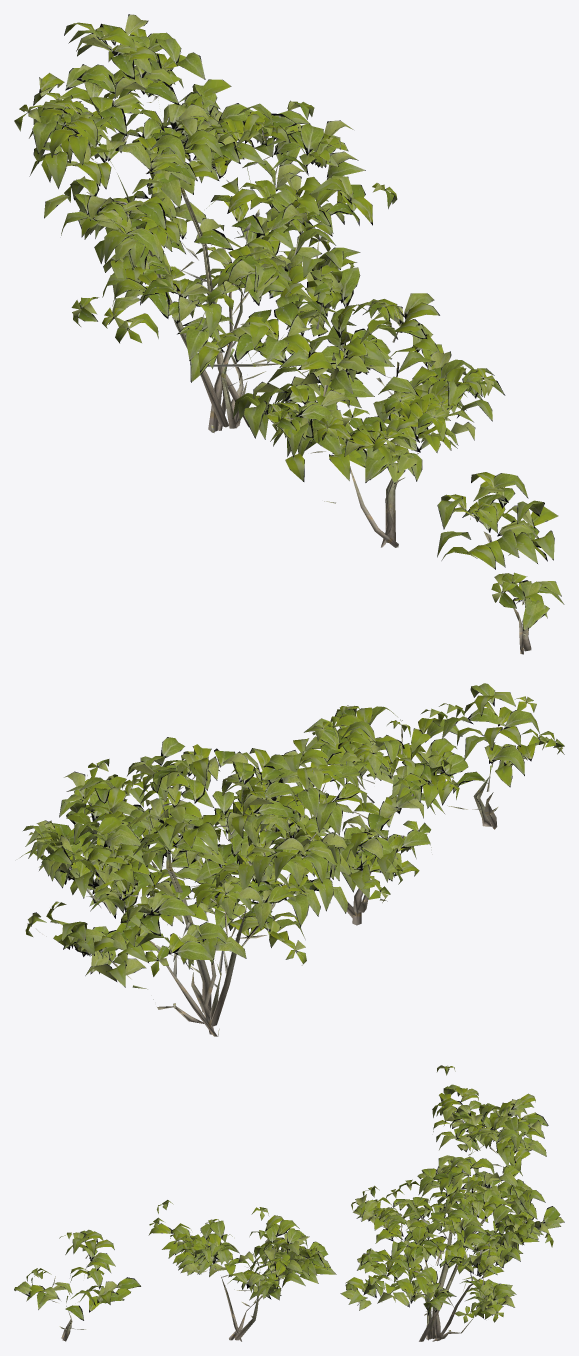
Rendered from didelta_spinosa_2k.glb.
3 views of the same model, one above another, from view 1: azimuth 30°, elevation 25°; view 2: azimuth 150°, elevation 25°; view 3: azimuth 270°, elevation 25° (orthographic). The views are drawn at different scales.
Parts seen in each view (by area): view 1: didelta_spinosa_large_LOD0; view 2: didelta_spinosa_large_LOD0; view 3: didelta_spinosa_large_LOD0.
Part boxes in pixels (x1,y1,x2,y2): didelta_spinosa_large_LOD0: (14,14,564,654); didelta_spinosa_large_LOD0: (20,683,564,1036); didelta_spinosa_large_LOD0: (14,1065,564,1341).
Size of the model in its own units: 2.12 by 2.07 by 4.56.
1 material, 1 textured.
